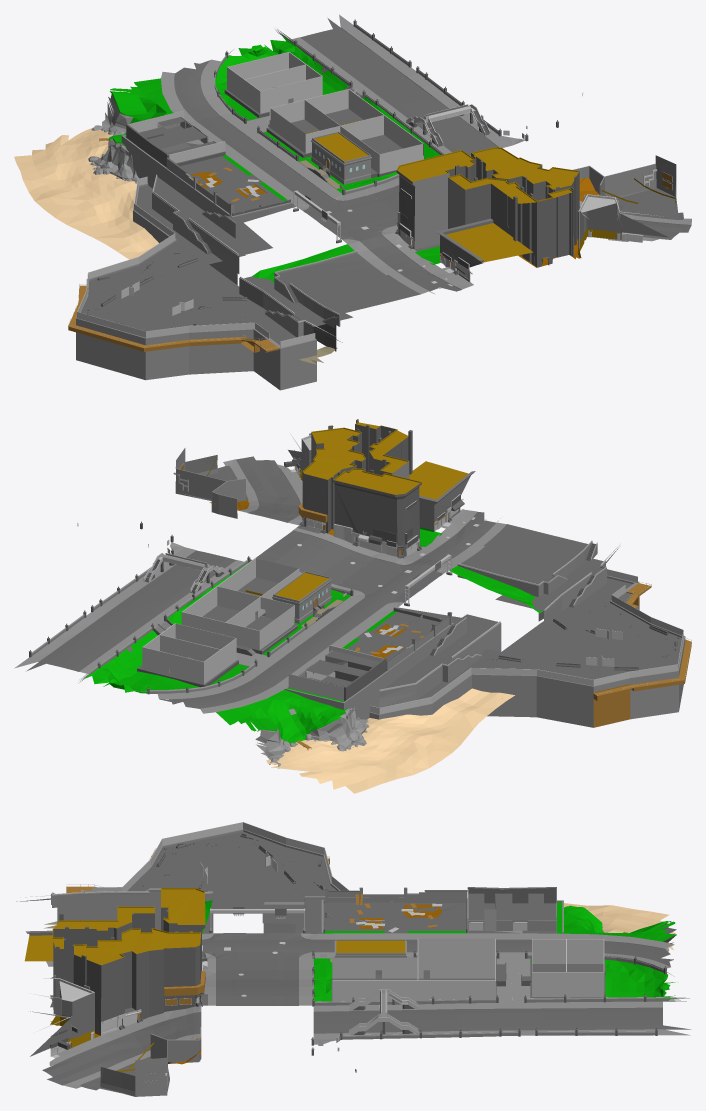
File: bronx_w_3.FBX
3 renders of one model, top to bottom at view 1: azimuth 30°, elevation 25°; view 2: azimuth 150°, elevation 25°; view 3: azimuth 270°, elevation 25°, orthographic. The views are drawn at different scales.
Visible parts, largest first — view 1: unnamed, null; view 2: unnamed, null; view 3: unnamed, null.
Boxes of the visible parts, box(x1,y1,x2,y2) form: unnamed: box(14, 14, 691, 390); null: box(270, 69, 498, 176); unnamed: box(14, 419, 691, 793); null: box(93, 553, 327, 656); unnamed: box(16, 822, 691, 1096); null: box(332, 939, 529, 1039).
Bounding box in the file's own units: 288 × 66.92 × 275.
